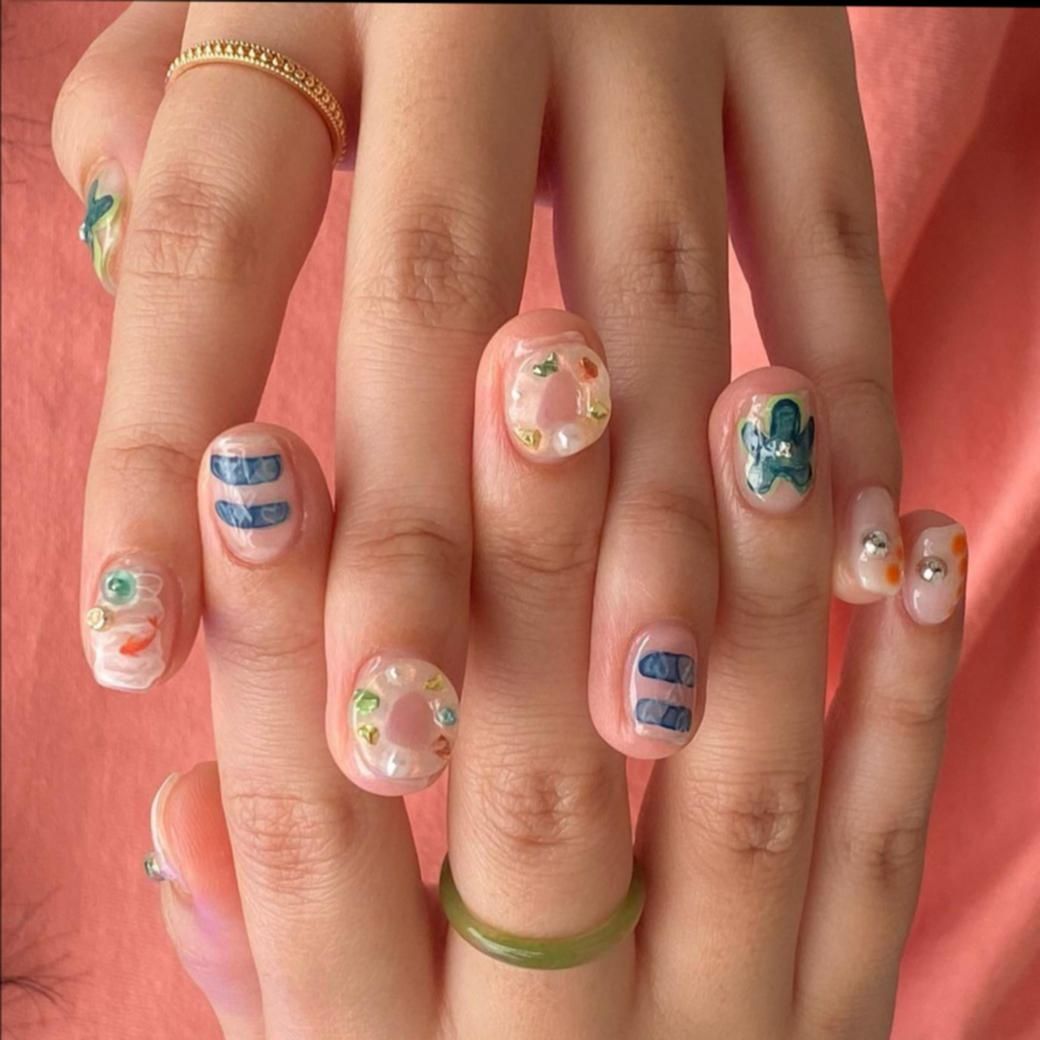nail: (495, 327, 611, 465), (200, 431, 301, 566), (349, 656, 458, 779), (84, 557, 180, 690), (734, 391, 815, 513), (624, 624, 699, 746), (831, 486, 905, 606), (900, 524, 967, 627), (79, 166, 124, 292)
